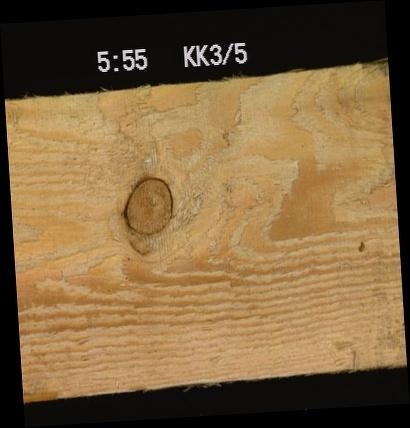dry_knot: (118, 174, 173, 235)
